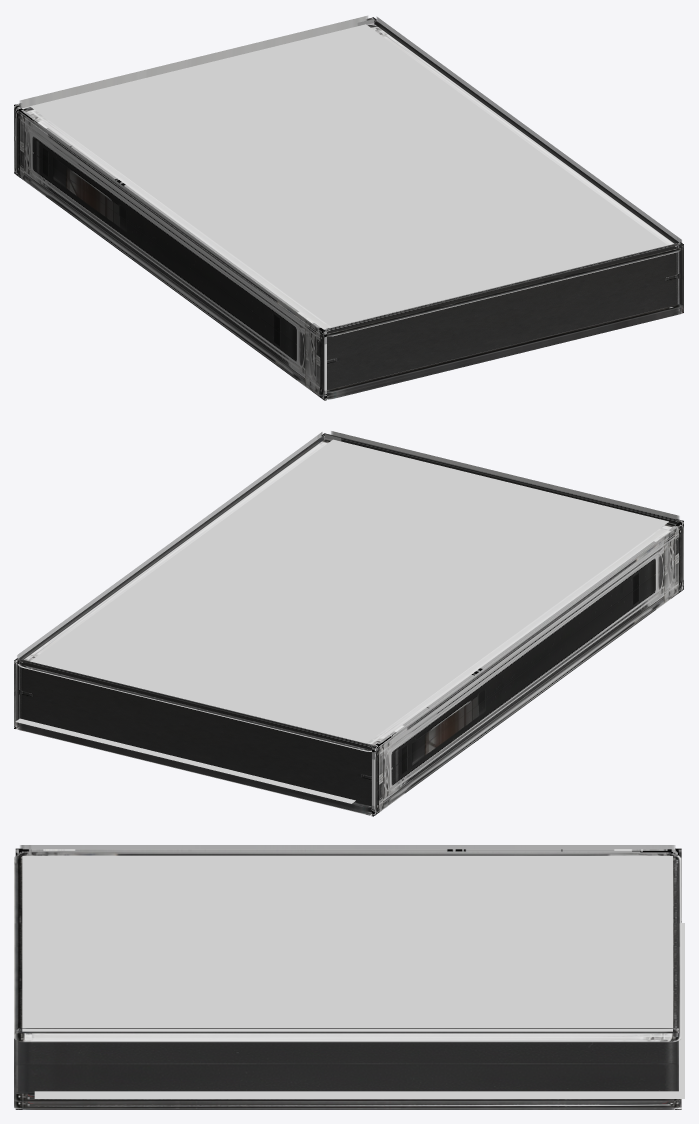
File: Case.glb
3 views of the same model, one above another, from view 1: azimuth 30°, elevation 25°; view 2: azimuth 150°, elevation 25°; view 3: azimuth 270°, elevation 25° (orthographic). The views are drawn at different scales.
Visible parts, largest first — view 1: Album cover front, right side, top, front frame, back frame, left side; view 2: Album cover front, right side, bottom, front frame, back frame, left side, top, Album cover back; view 3: Album cover front, left side, front frame, back frame, Album cover back, right side.
Part boxes in pixels (x1=…): Album cover front: x1=30, y1=24, x2=667, y2=327; right side: x1=15, y1=106, x2=326, y2=400; top: x1=321, y1=242, x2=683, y2=400; front frame: x1=18, y1=15, x2=681, y2=336; back frame: x1=19, y1=171, x2=682, y2=399; left side: x1=357, y1=19, x2=683, y2=312; Album cover front: x1=30, y1=439, x2=668, y2=743; right side: x1=372, y1=521, x2=683, y2=815; bottom: x1=14, y1=658, x2=376, y2=816; front frame: x1=17, y1=431, x2=680, y2=751; back frame: x1=16, y1=586, x2=679, y2=814; left side: x1=16, y1=434, x2=341, y2=727; top: x1=321, y1=433, x2=683, y2=590; Album cover back: x1=15, y1=718, x2=355, y2=803; Album cover front: x1=22, y1=856, x2=672, y2=1031; left side: x1=16, y1=1028, x2=678, y2=1109; front frame: x1=14, y1=845, x2=681, y2=1042; back frame: x1=14, y1=1038, x2=681, y2=1108; Album cover back: x1=34, y1=923, x2=684, y2=1098; right side: x1=16, y1=849, x2=678, y2=855.
Bounding box in the file's own units: 2 × 0.3824 × 3.02.
Materials: 5 (5 with a texture image).
